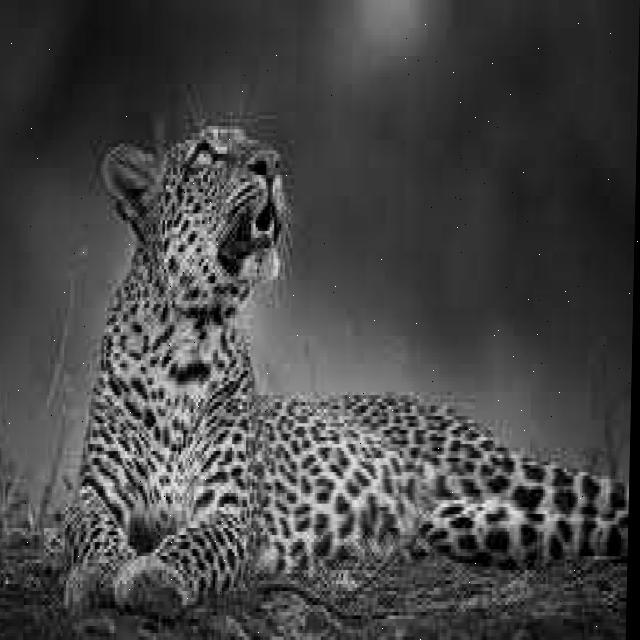Leopard: (86, 127, 464, 568)
